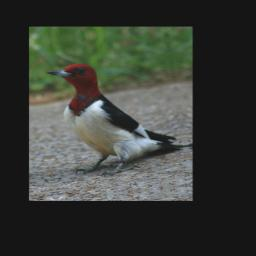Woodpecker: (41, 52, 189, 181)
